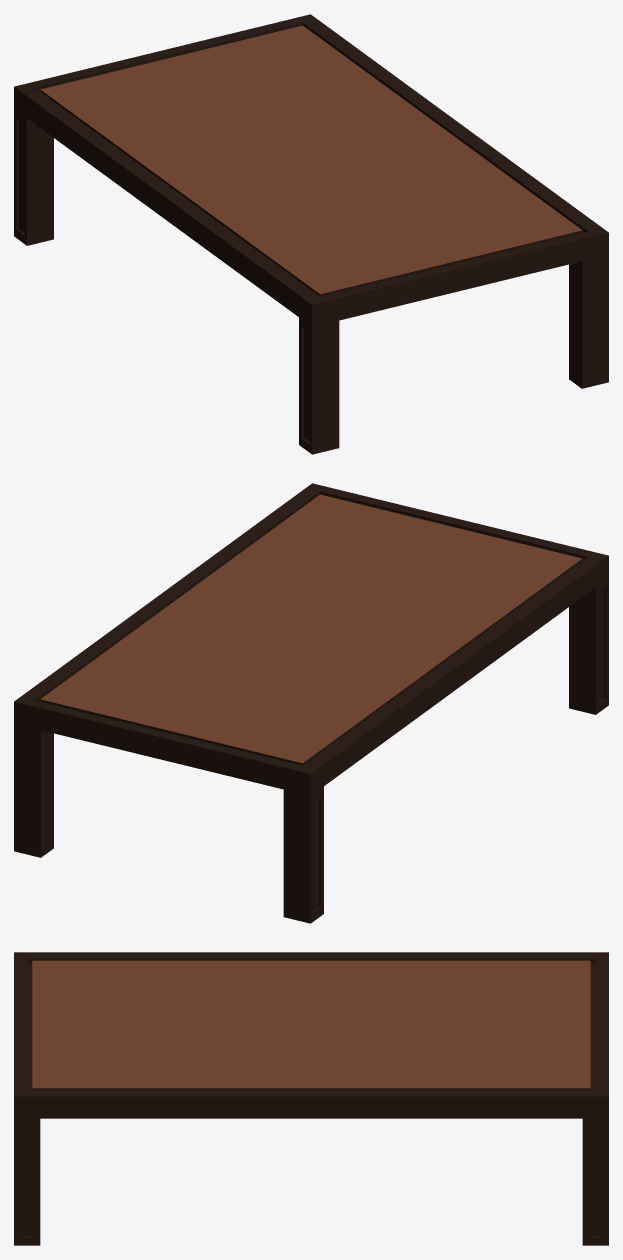
The model's file is Table.fbx.
3 views of the same model, one above another, from view 1: azimuth 30°, elevation 25°; view 2: azimuth 150°, elevation 25°; view 3: azimuth 270°, elevation 25° (orthographic).
Parts seen in each view (by area): view 1: Cube; view 2: Cube; view 3: Cube.
Part boxes in pixels (x1,y1,x2,y2): Cube: (14,14,608,454); Cube: (14,483,608,923); Cube: (14,952,608,1245).
Size of the model in its own units: 200 by 96.43 by 348.
